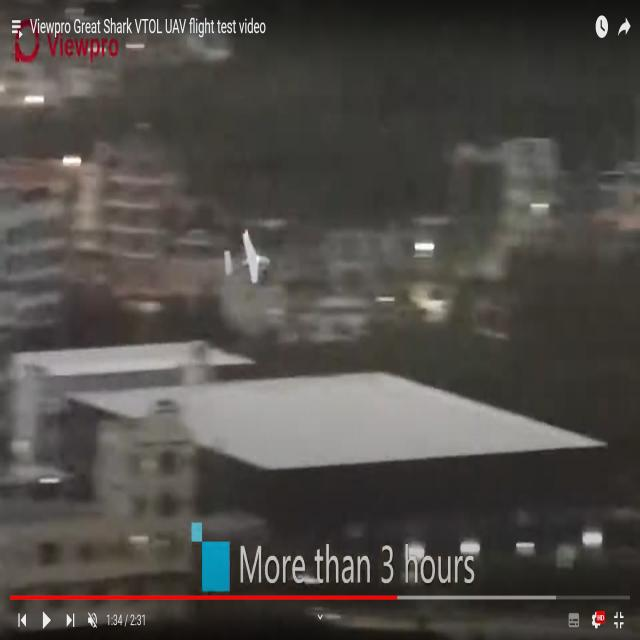iha: (223, 228, 270, 285)
